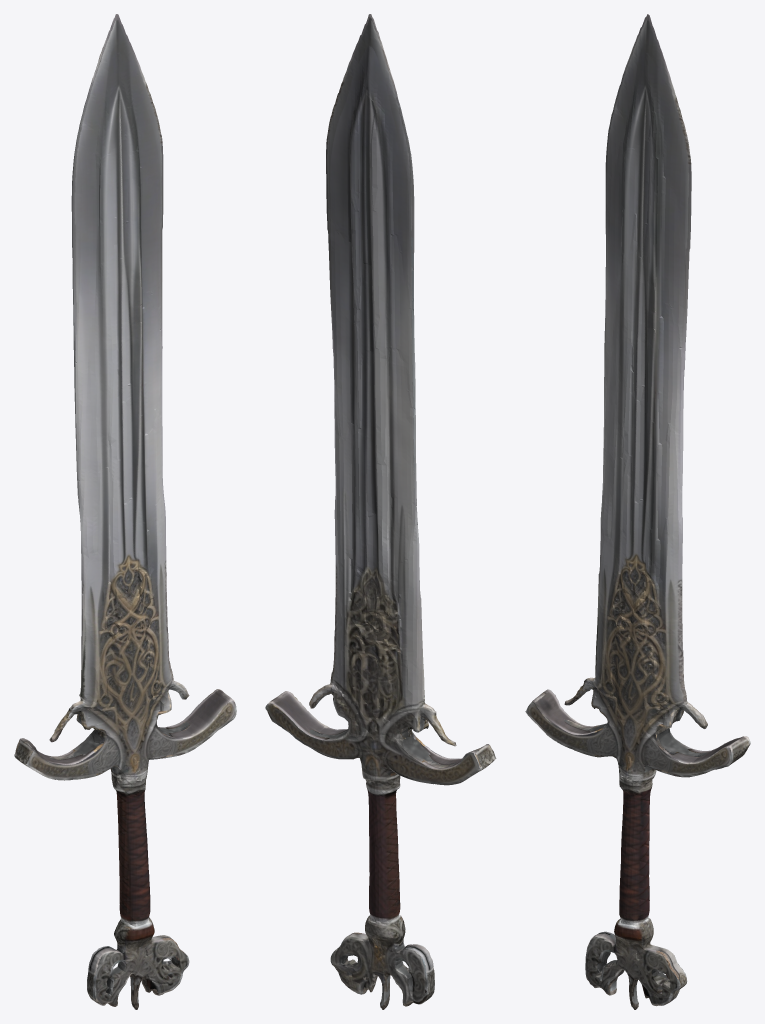
File: excaliburs_elegant.fbx
The picture shows the model from 3 angles, left to right: view 1: azimuth 30°, elevation 25°; view 2: azimuth 150°, elevation 25°; view 3: azimuth 330°, elevation 25°; orthographic projection. The views are drawn at different scales.
Parts seen in each view (by area): view 1: temp; view 2: temp; view 3: temp.
Boxes of the visible parts, left/top/right/bottom form: temp: left=14, top=14, right=236, bottom=1009; temp: left=265, top=14, right=496, bottom=1009; temp: left=525, top=14, right=750, bottom=1009.
Size of the model in its own units: 44.44 by 198 by 10.47.
Materials: 1 (1 with a texture image).
